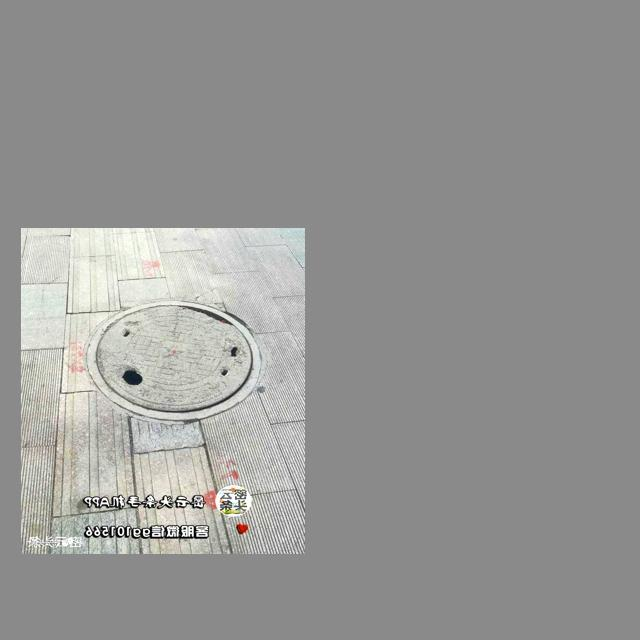broke: (75, 287, 275, 425)
